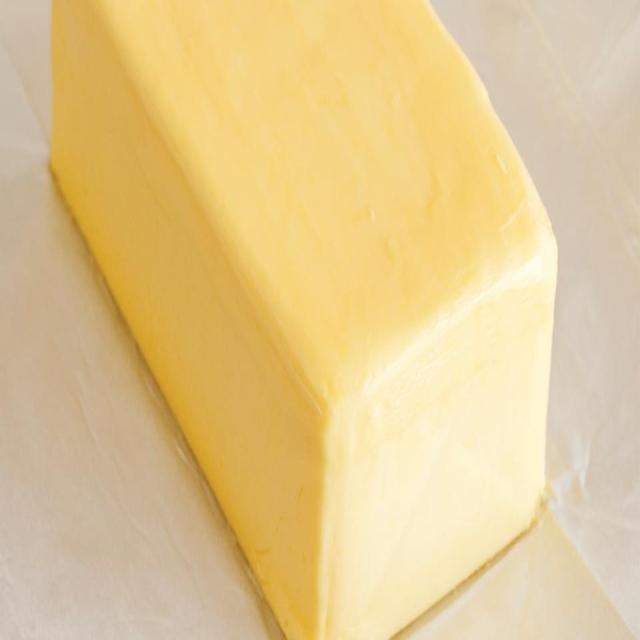Butter: (50, 0, 553, 640)
